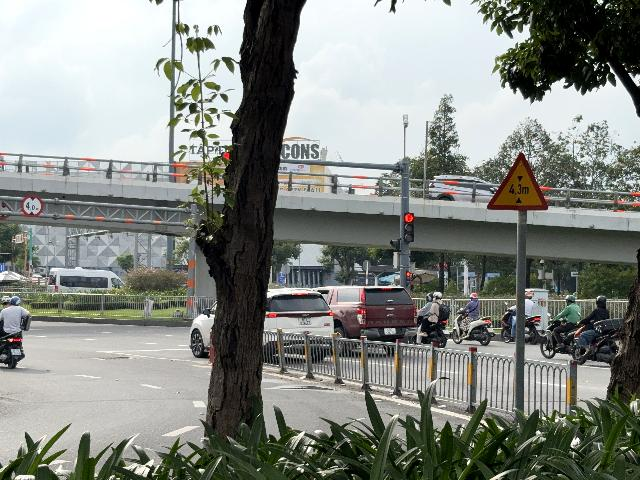chieu-cao-tinh-khong-thuc-te: (486, 153, 549, 210)
